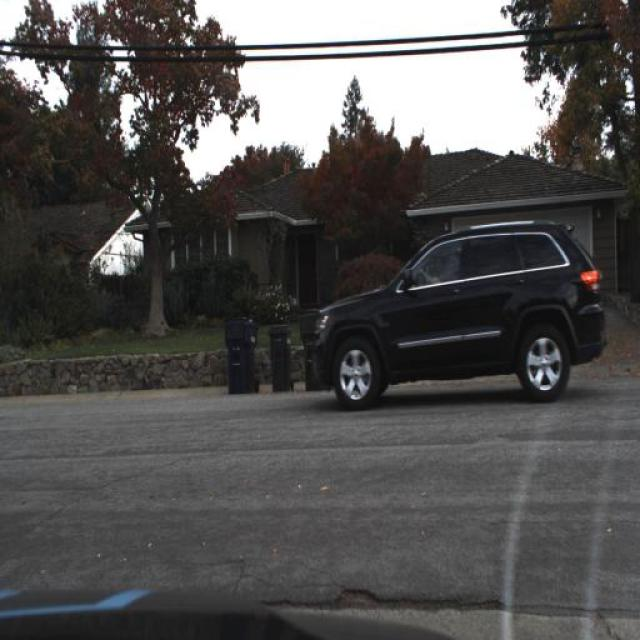car: (303, 213, 608, 409)
